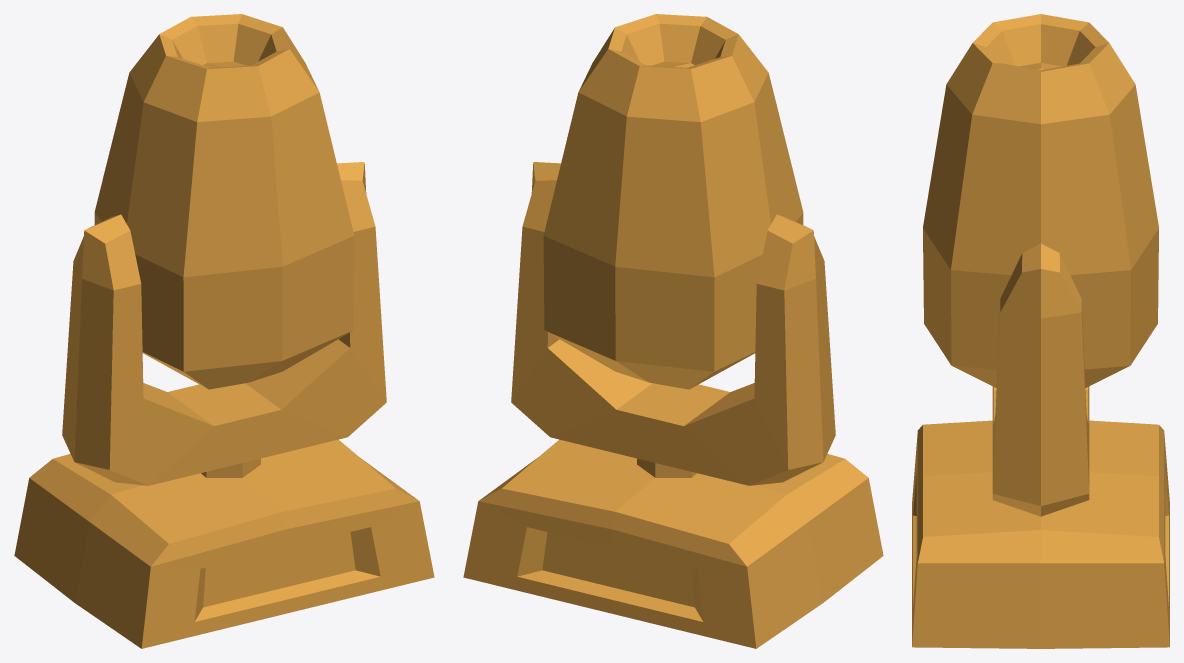
Rendered from light-moving.fbx.
3 renders of one model, left to right at view 1: azimuth 30°, elevation 25°; view 2: azimuth 150°, elevation 25°; view 3: azimuth 270°, elevation 25°, orthographic.
Parts seen in each view (by area): view 1: light-moving-head, light-moving-base, light-moving-holder; view 2: light-moving-head, light-moving-base, light-moving-holder; view 3: light-moving-head, light-moving-base, light-moving-holder.
Part boxes in pixels (x1,y1,x2,y2): light-moving-head: (94,14,354,389); light-moving-base: (14,439,434,648); light-moving-holder: (62,162,386,485); light-moving-head: (543,14,803,389); light-moving-base: (463,439,883,648); light-moving-holder: (511,162,835,485); light-moving-head: (923,14,1158,387); light-moving-base: (912,420,1169,648); light-moving-holder: (992,243,1089,516).
Bounding box in the file's own units: 0.4096 × 0.6847 × 0.3007.
